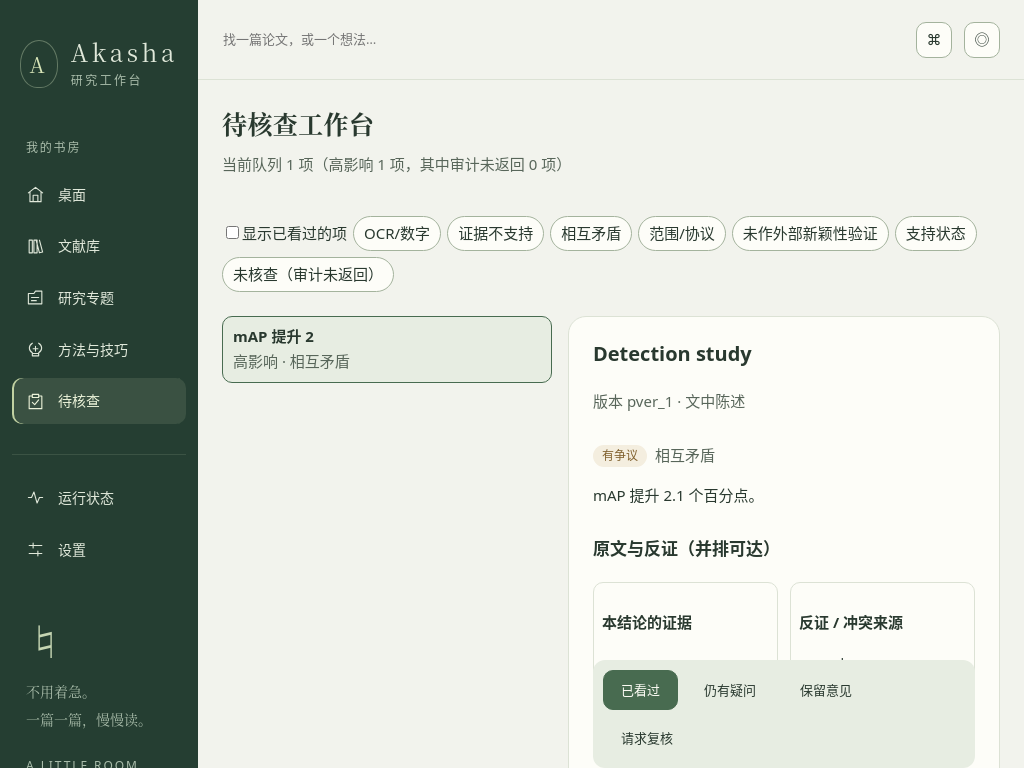
Test case: UX-035 re-verification is accepted, not completed › only claims that the task was created, with the operation id
Click the button "请求复核". click: (647, 738)
box: [603,718,691,758]
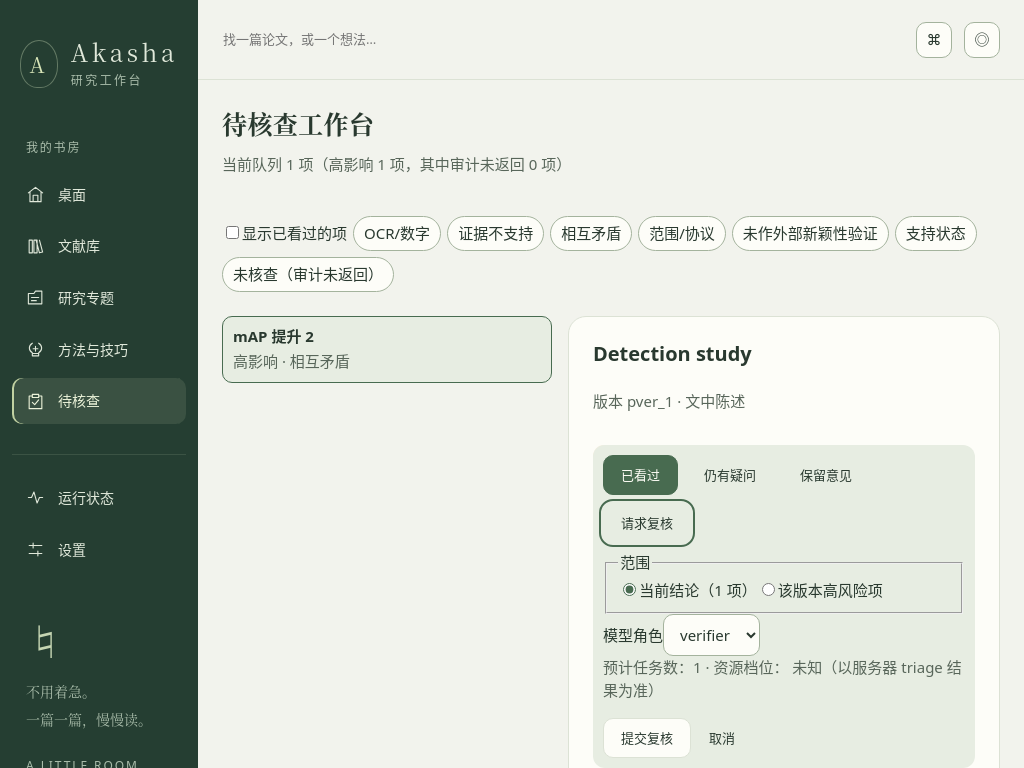
Click the button "提交复核". click: (647, 738)
box: [603,718,691,758]
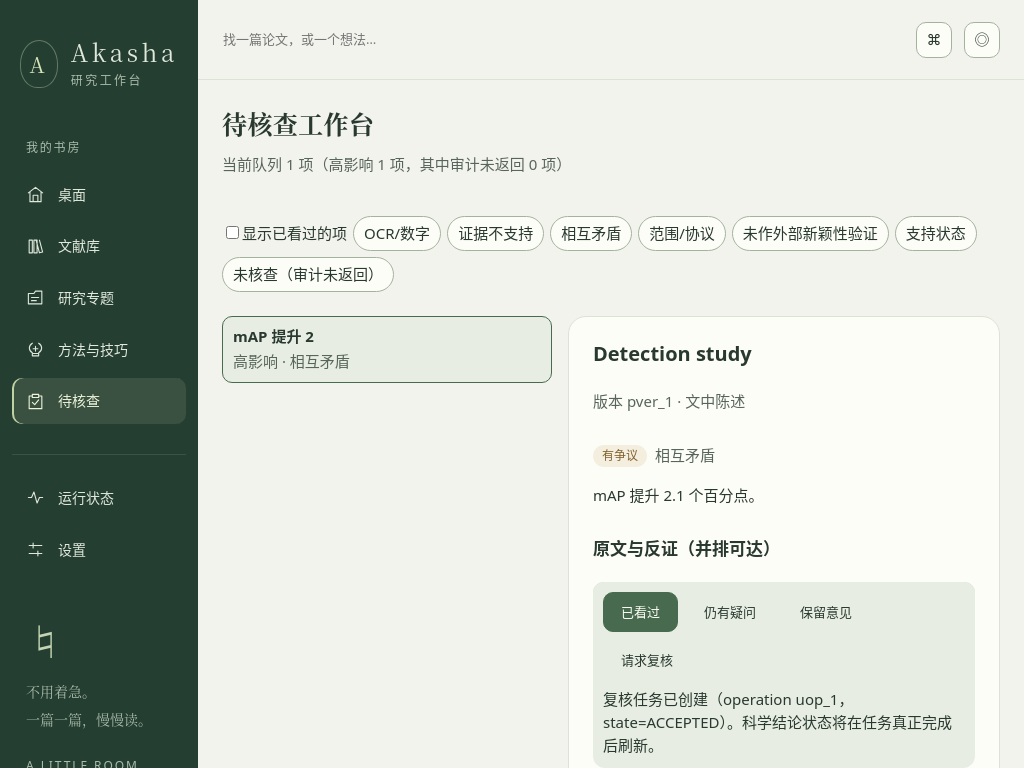
Now the message with test id "reverify-result" shows "复核任务已创建", box [603,689,796,709]
Now the message with test id "reverify-result" shows "operation", box [603,689,796,709]
Now the message with test id "reverify-result" shows "科学结论状态将在任务真正完成后刷新", box [603,712,952,756]
